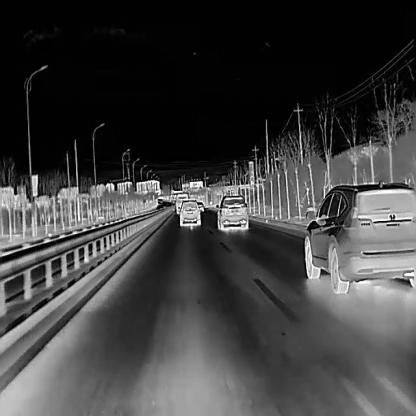bus: (175, 191, 188, 212)
car: (303, 179, 415, 293), (214, 193, 248, 229), (177, 197, 200, 225), (196, 200, 204, 211)
